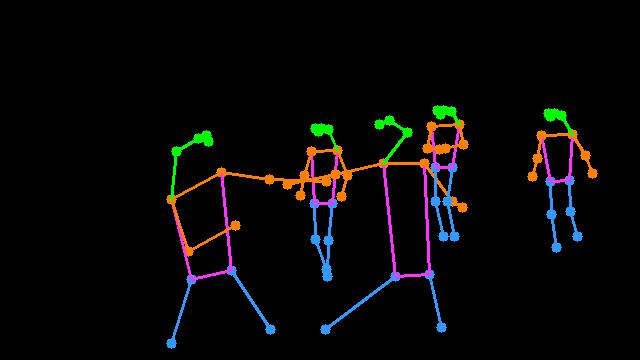normal: (522, 105, 603, 258), (291, 117, 355, 283), (421, 96, 476, 248)
